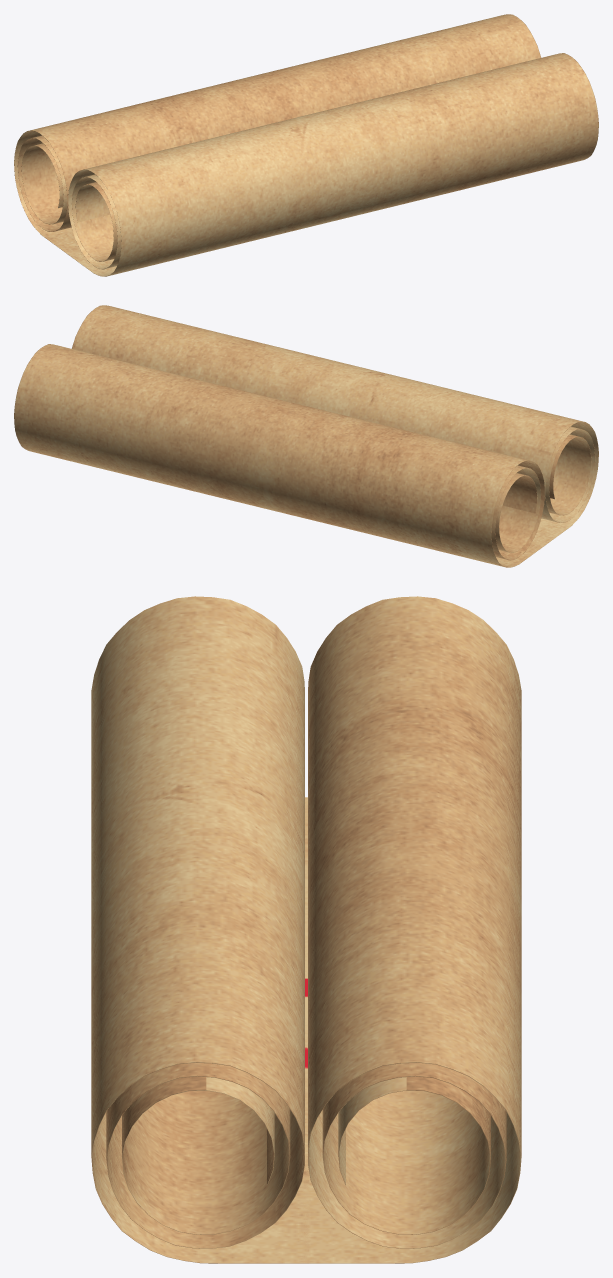
File: scroll.glb
3 views of the same model, one above another, from view 1: azimuth 30°, elevation 25°; view 2: azimuth 150°, elevation 25°; view 3: azimuth 270°, elevation 25° (orthographic). The views are drawn at different scales.
Visible parts, largest first — view 1: Plane; view 2: Plane; view 3: Plane.
Boxes of the visible parts, box(x1,y1,x2,y2) form: Plane: box(14, 14, 598, 276); Plane: box(14, 305, 598, 567); Plane: box(91, 596, 521, 1263).
Bounding box in the file's own units: 2.87 × 0.5779 × 1.12.
1 material, 1 textured.
